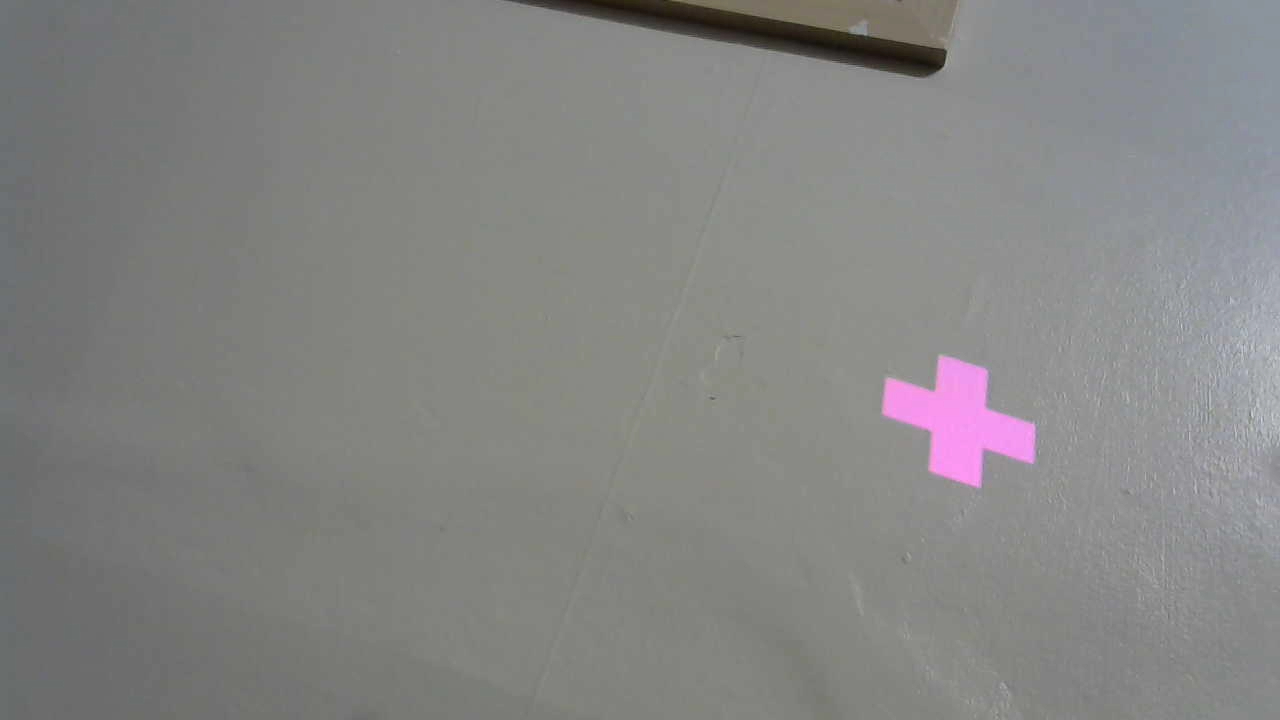calibration_symbol: (881, 355, 1038, 488)
